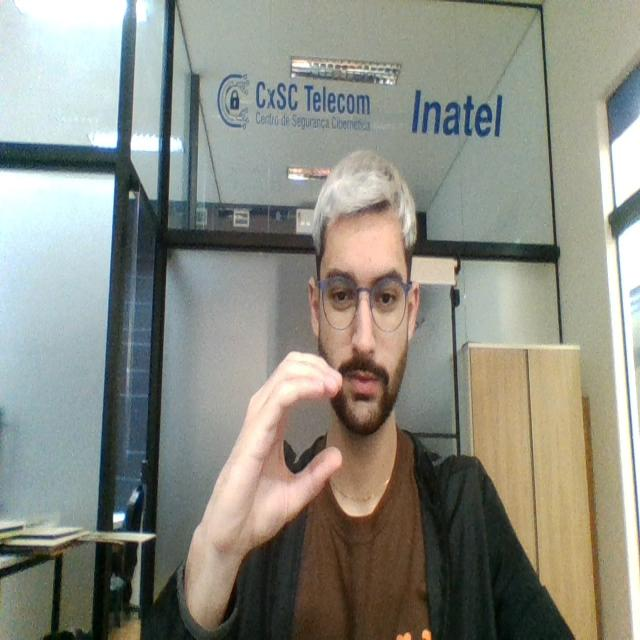C: (222, 343, 348, 549)
